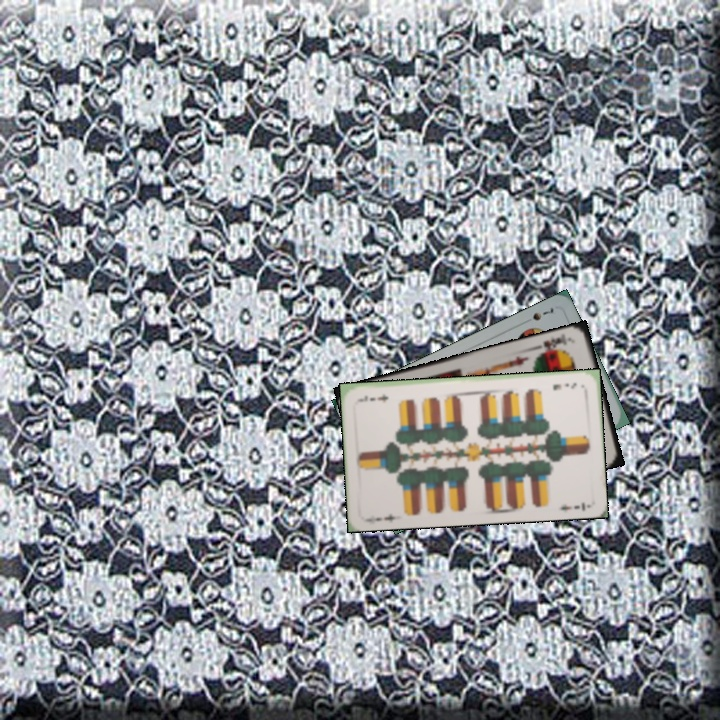E7: (549, 379, 579, 393), (371, 510, 398, 525)
S7: (529, 303, 556, 323)
SK: (535, 330, 574, 357)
